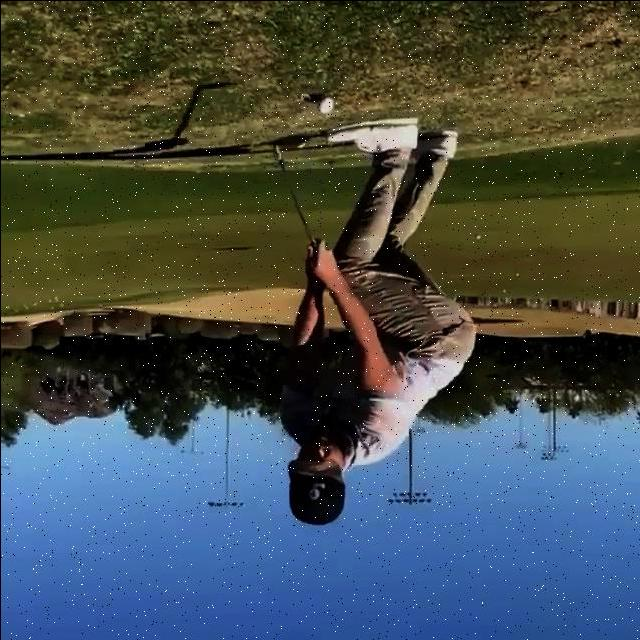golf ball: (316, 97, 333, 113)
golf club-handle: (271, 138, 313, 247)
golf club-head: (272, 139, 306, 151)
